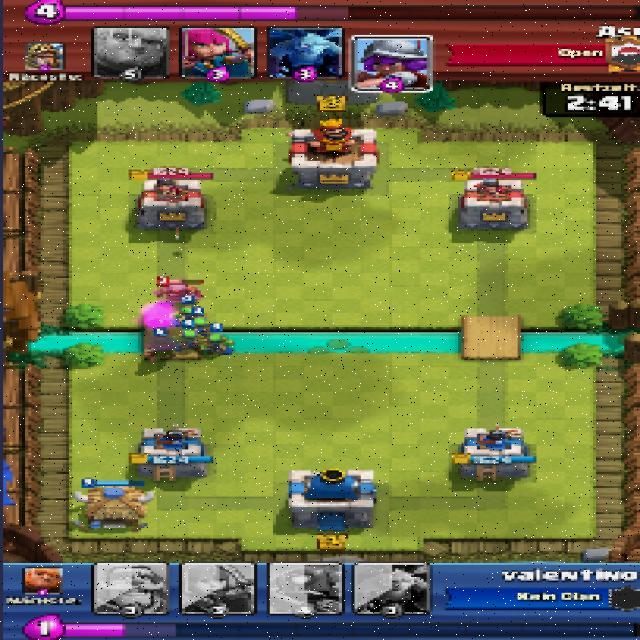Enemy-MiniPEKKA: (155, 284, 204, 301)
Player-GoblinHut: (71, 485, 155, 530)
Player-Musketeer: (146, 331, 179, 361)
Player-SpearGoblin: (204, 335, 237, 355), (170, 308, 203, 324), (174, 332, 204, 348)
